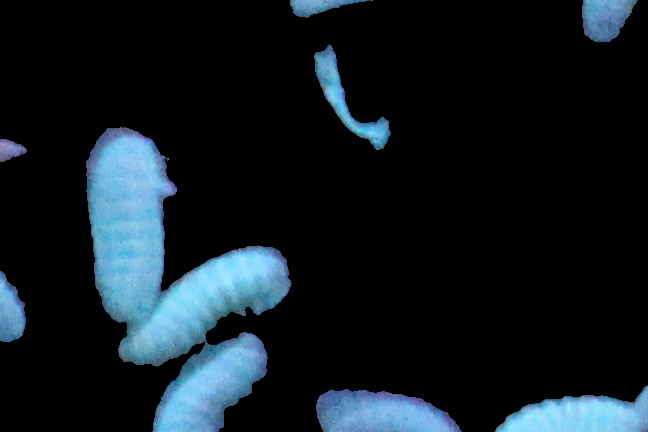larvae: (126, 252, 286, 364), (86, 132, 174, 312), (154, 329, 267, 432), (313, 384, 464, 432), (485, 392, 648, 431), (294, 1, 418, 24)
